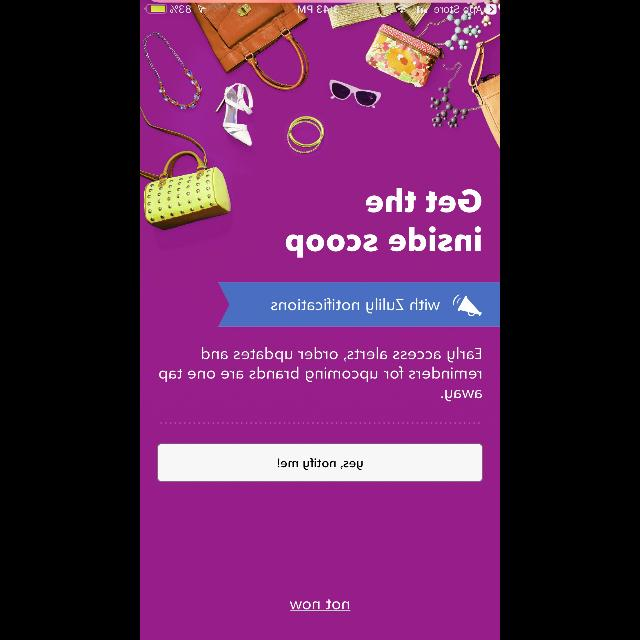backgroundimage: (140, 1, 500, 640)
image: (452, 295, 482, 317)
text: (160, 346, 482, 402), (285, 188, 481, 258), (271, 300, 439, 314), (290, 599, 350, 611)
textbutton: (158, 444, 482, 482)
uppertaskbar: (140, 1, 500, 15)
